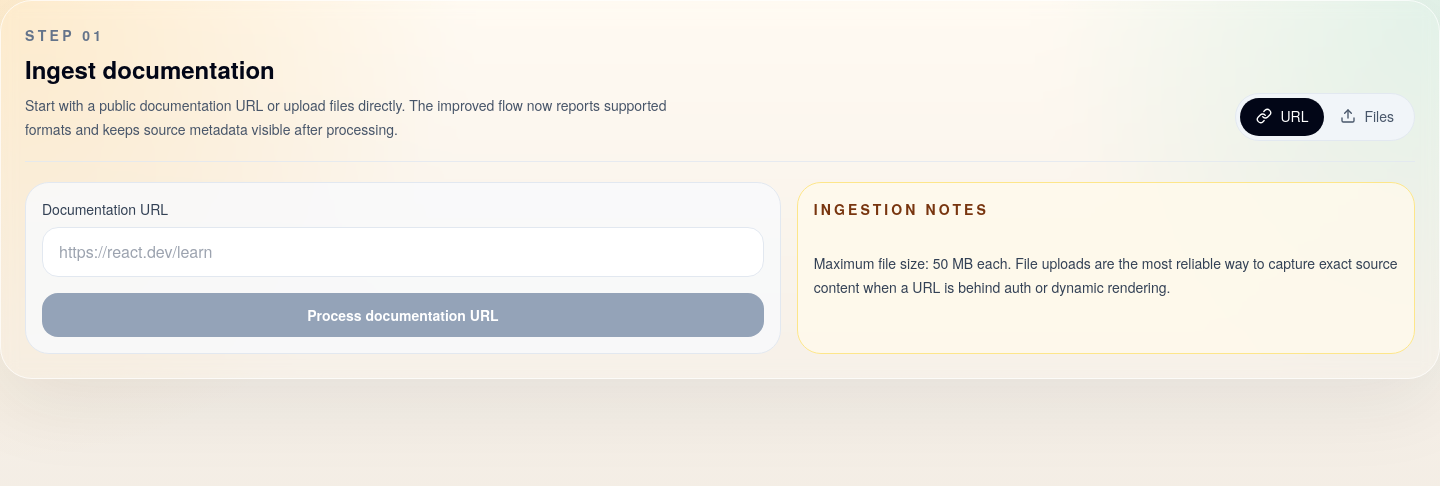
Test case: DocumentUpload Component › Upload Method Toggle › should switch to file upload mode
Click the button "Files". click: (1367,117)
box: [1324,98,1410,136]
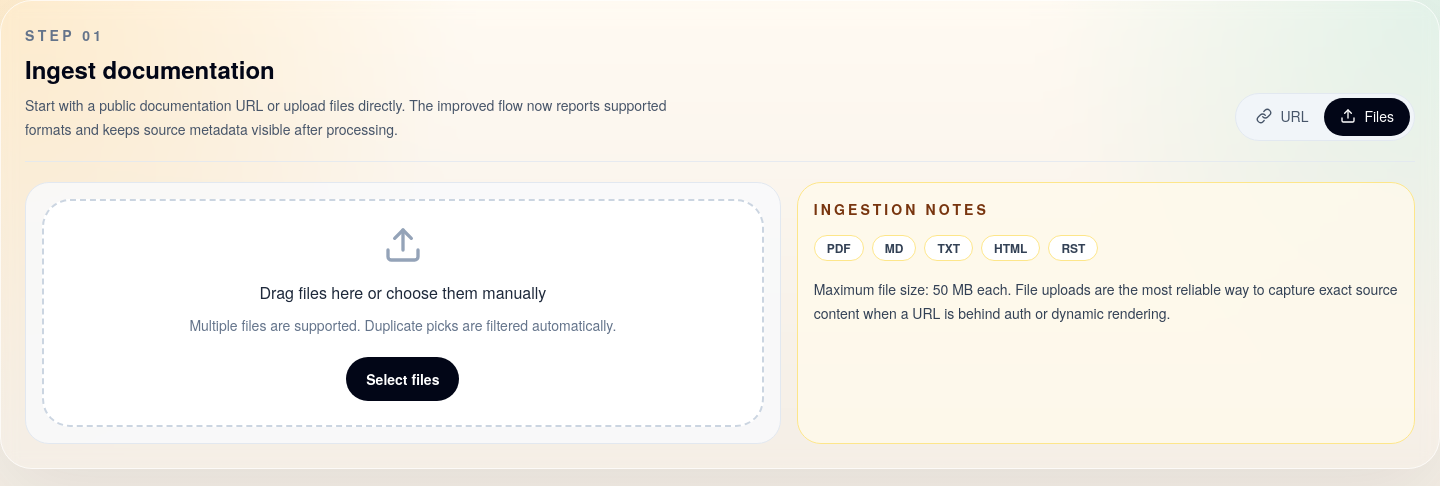
Result: the text "Drag files here or choose them manually" is shown at [259,281,546,304]
